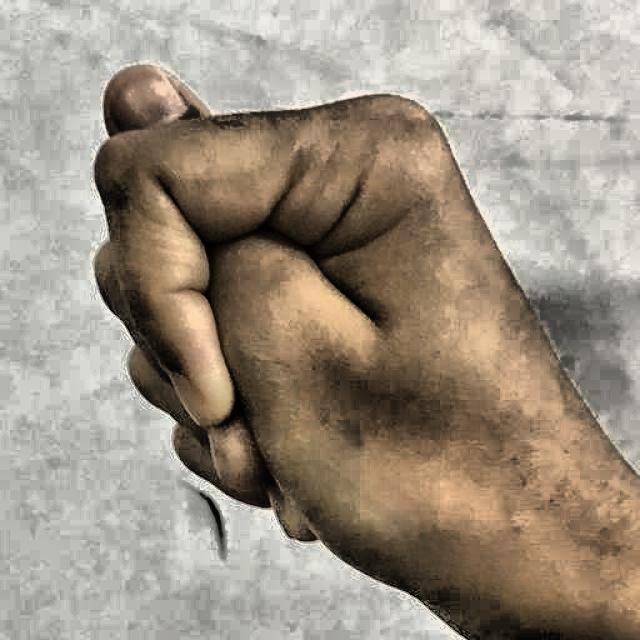Ta: (68, 21, 593, 640)
